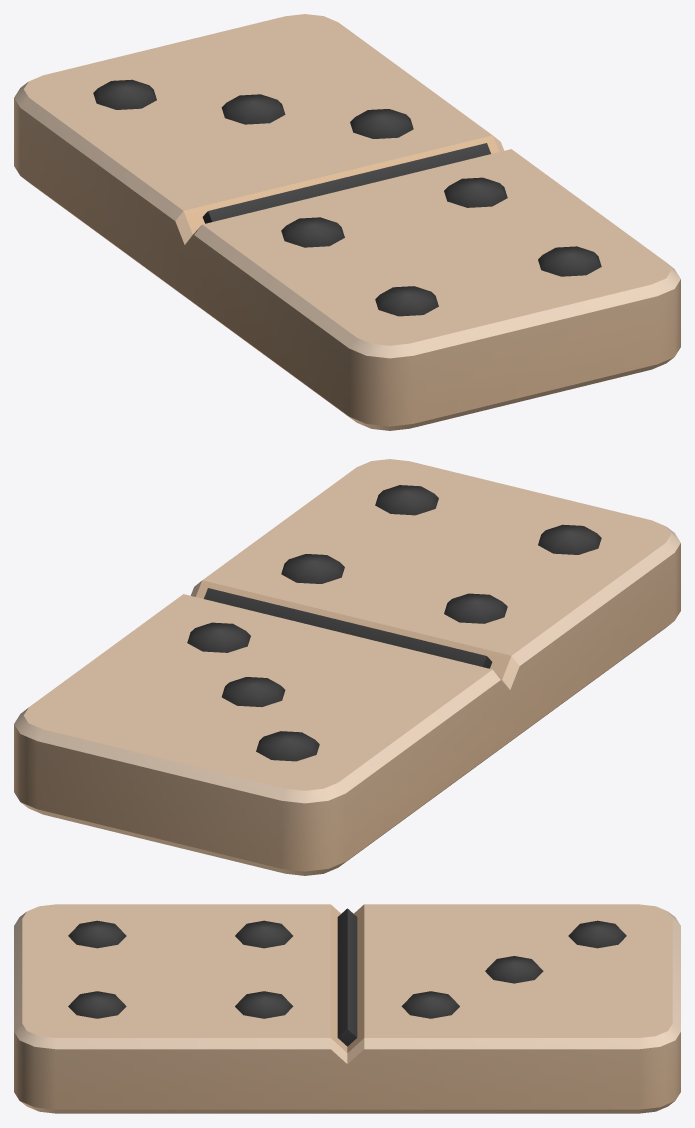
File: domino_tile_3-4.gltf
3 views of the same model, one above another, from view 1: azimuth 30°, elevation 25°; view 2: azimuth 150°, elevation 25°; view 3: azimuth 270°, elevation 25° (orthographic). The views are drawn at different scales.
Parts seen in each view (by area): view 1: domino_tile_3-4; view 2: domino_tile_3-4; view 3: domino_tile_3-4.
Boxes of the visible parts, bbox=[...] form: domino_tile_3-4: bbox=[14, 14, 680, 430]; domino_tile_3-4: bbox=[14, 459, 680, 875]; domino_tile_3-4: bbox=[14, 904, 680, 1113].
Bounding box in the file's own units: 1 × 0.2767 × 2.
Materials: 1 (1 with a texture image).
